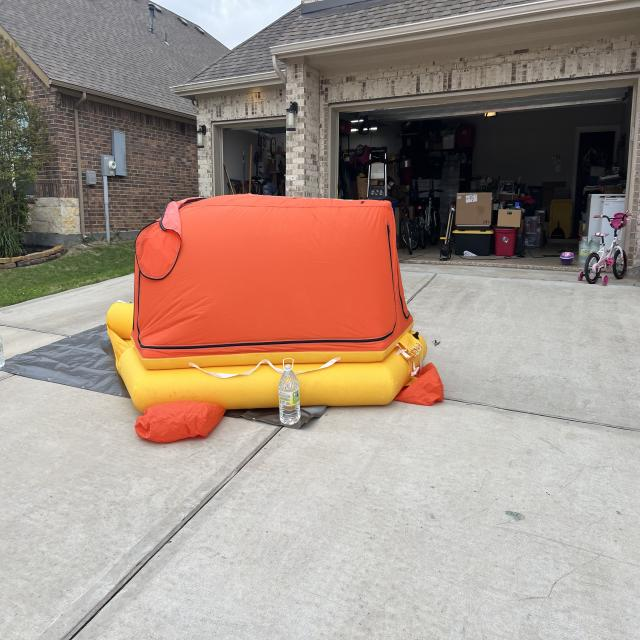Multi-person_life_raft: (107, 192, 445, 443)
